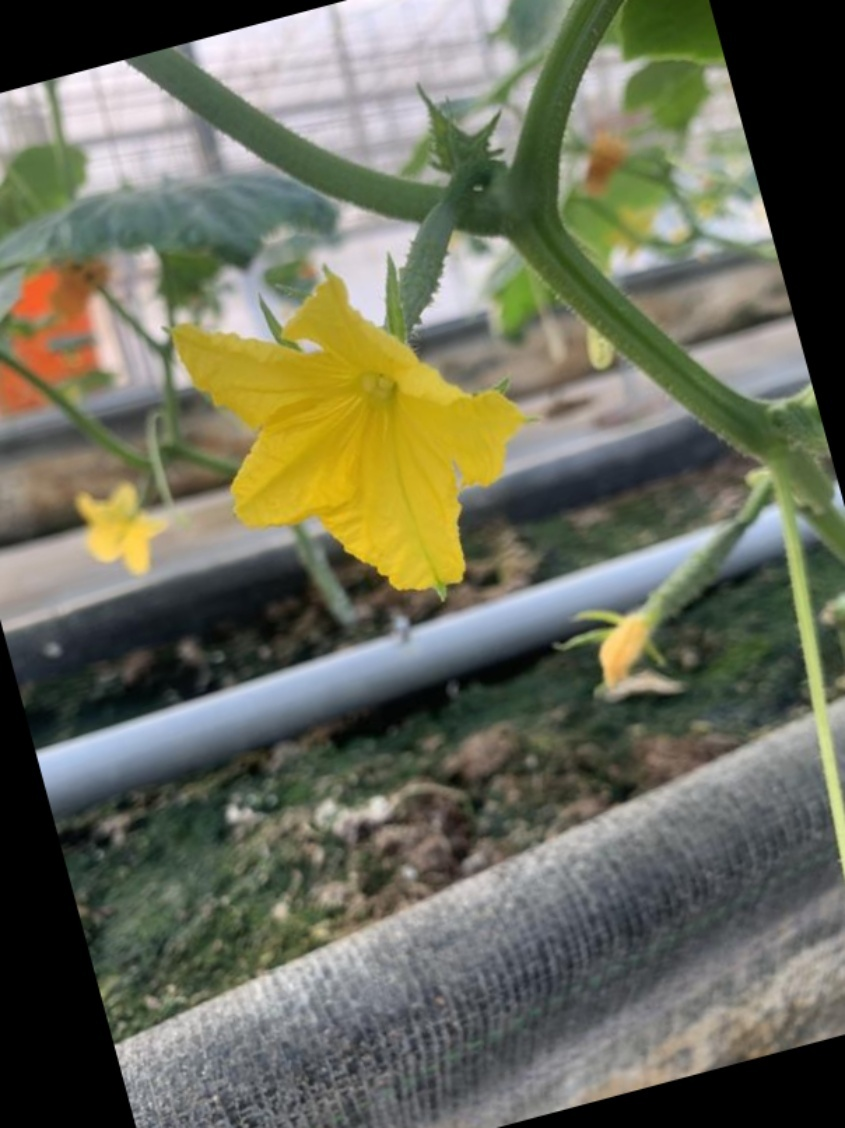flowering: (153, 186, 590, 608)
